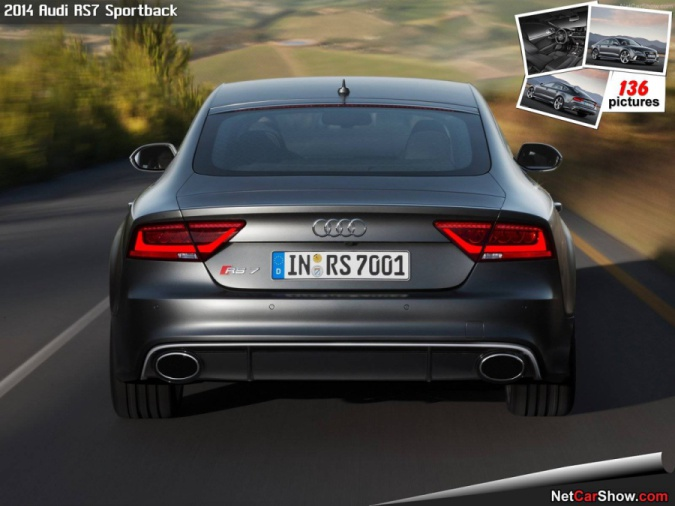audi: (306, 212, 368, 244)
